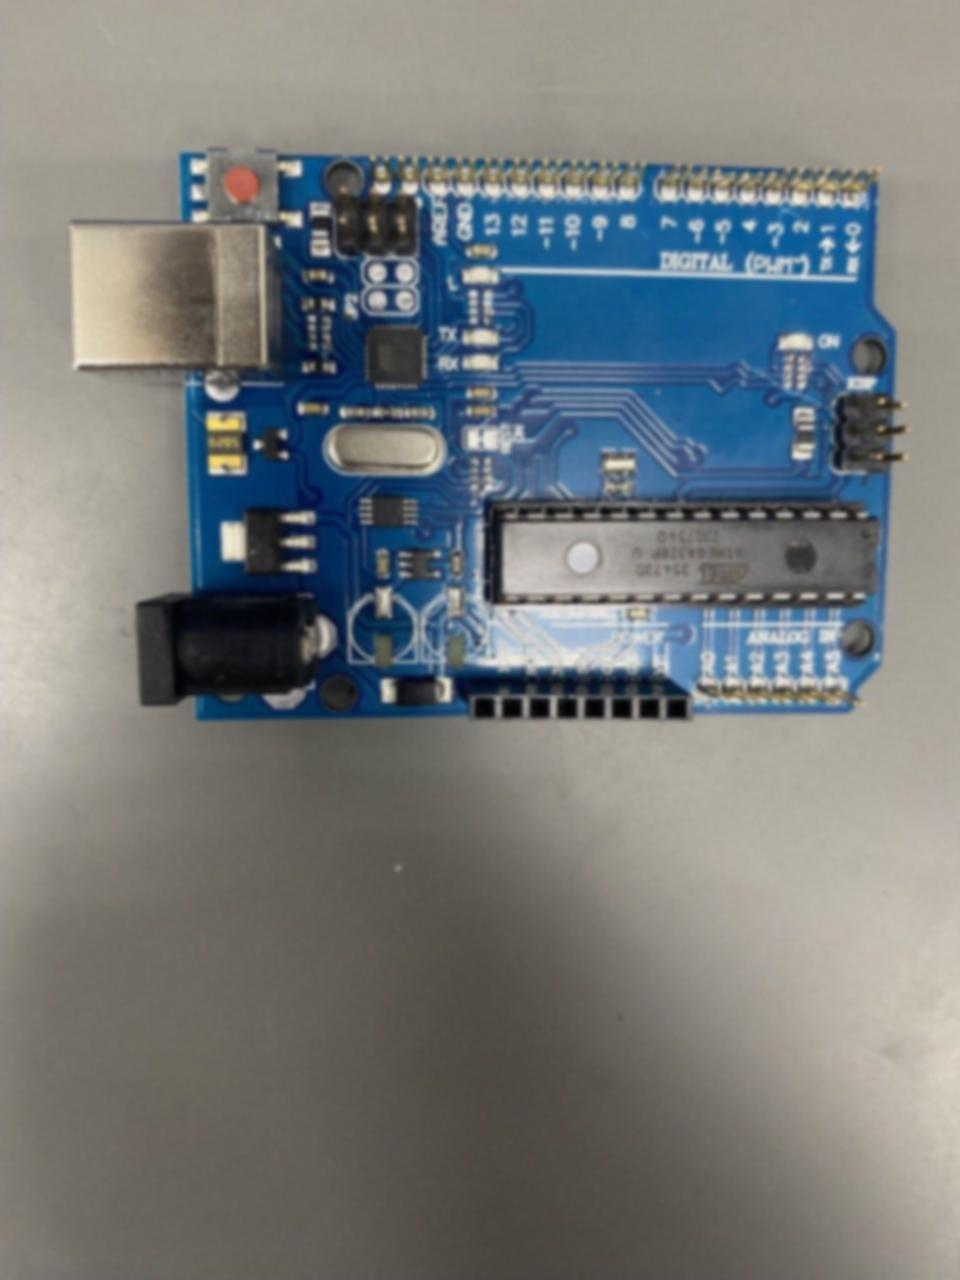ATmega328 chip: (487, 500, 879, 611)
Arduino board: (67, 149, 909, 722)
USB: (68, 220, 284, 387)
pins: (465, 676, 694, 723)
